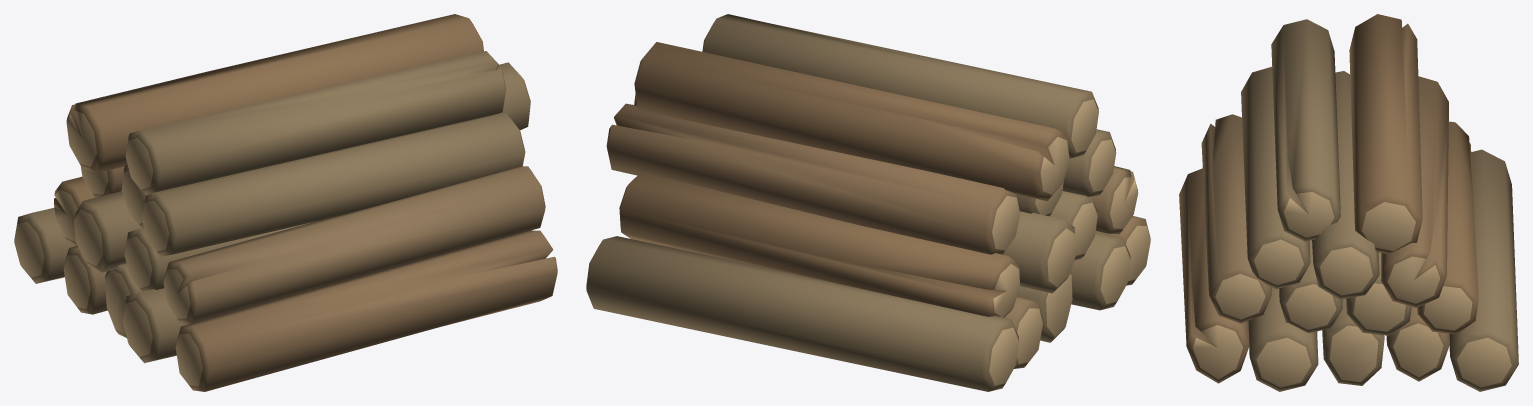
The model's file is rpgpp_ag_log_wood_02a.fbx.
The picture shows the model from 3 angles, left to right: view 1: azimuth 30°, elevation 25°; view 2: azimuth 150°, elevation 25°; view 3: azimuth 270°, elevation 25°; orthographic projection. The views are drawn at different scales.
Parts seen in each view (by area): view 1: rpgpp_ag_log_wood_02a; view 2: rpgpp_ag_log_wood_02a; view 3: rpgpp_ag_log_wood_02a.
Boxes of the visible parts, x1,y1,x2,y2 form: rpgpp_ag_log_wood_02a: (14,14,557,391); rpgpp_ag_log_wood_02a: (586,14,1150,391); rpgpp_ag_log_wood_02a: (1179,14,1518,391).
Size of the model in its own units: 2.29 by 1.18 by 1.75.
